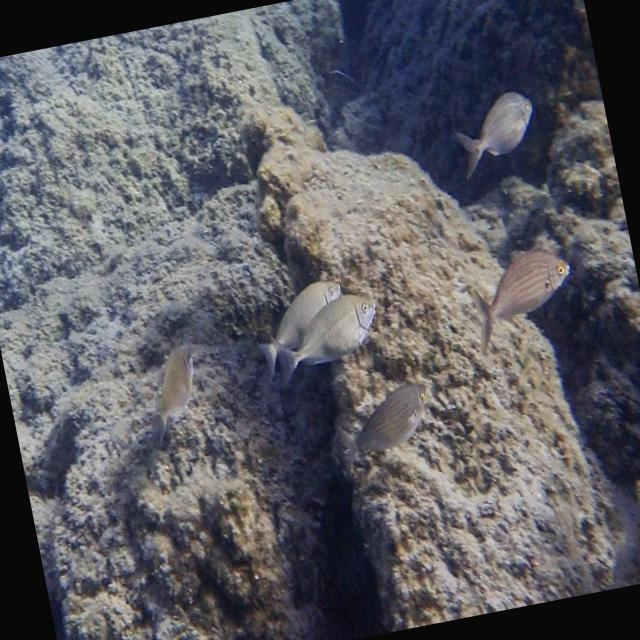Sokar Baligi: (454, 228, 590, 364), (319, 364, 451, 480), (441, 76, 549, 186), (128, 328, 220, 452)
